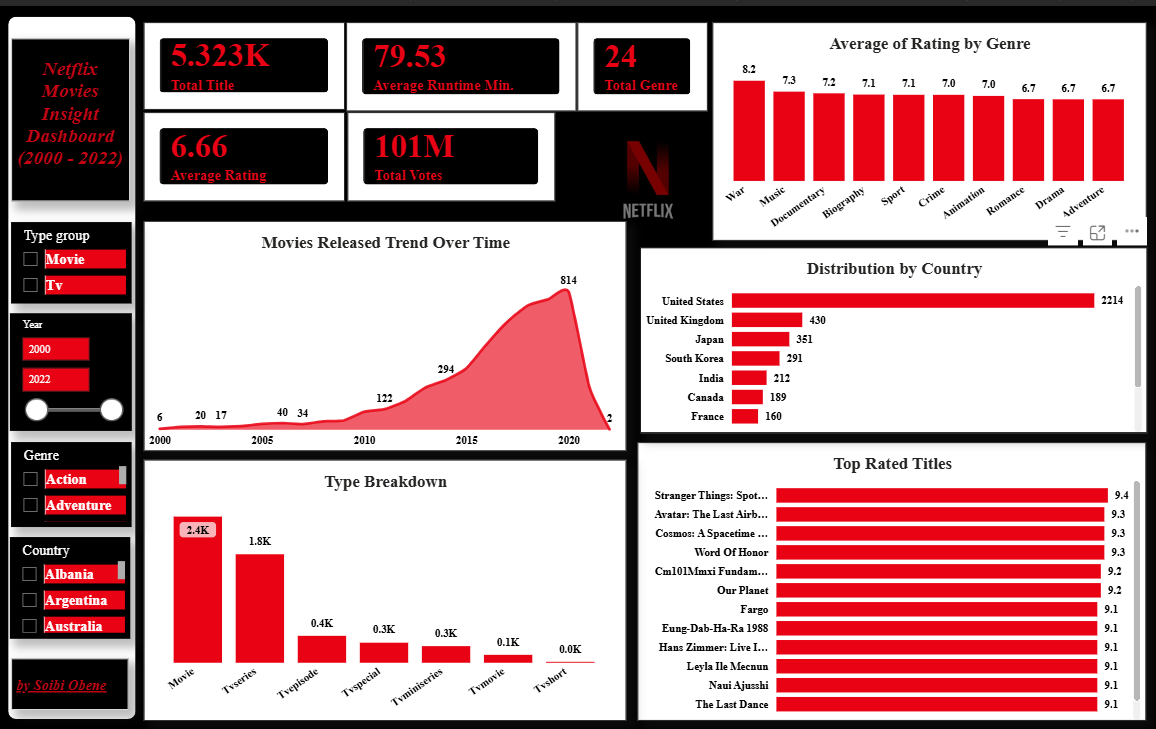

This screenshot's page, from the dashboard's own definition file:
{"tool":"powerbi","page":{"name":"Page 1","canvas":[1280,720],"ordinal":0},"visuals":[{"type":"cardVisual","fields":{"Data":["CountNonNull(netflix_data.Title)","Avg(netflix_data.Rating)","Sum(netflix_data.Number of Votes)","Count(netflix_data.Genre)"]},"box":[725.9,22,529.7,111.1],"z":0},{"type":"image","box":[370.5,197.6,577.7,435],"z":1000},{"type":"clusteredBarChart","title":"Top Rated Titles","fields":{"Category":["netflix_data.Title"],"Y":["Avg(netflix_data.Rating)"]},"box":[23.3,142.7,581.8,267.6],"z":2000},{"type":"clusteredBarChart","title":"Distribution by Country","fields":{"Category":["netflix_data.Country"],"Y":["CountNonNull(netflix_data.Title)"]},"box":[23.3,420.9,443.2,271.7],"z":3000},{"type":"lineChart","title":"Content Release Trend Over Time","fields":{"Category":["netflix_data.Year"],"Y":["CountNonNull(netflix_data.Title)"]},"box":[618.9,142.7,638.1,267.6],"z":4000},{"type":"donutChart","title":"Type Breakdown","fields":{"Y":["CountNonNull(netflix_data.Title)"],"Category":["netflix_data.Type"]},"box":[476.2,420.9,373.2,271.7],"z":5000},{"type":"clusteredBarChart","title":"Average Rating by Genre","fields":{"Category":["netflix_data.Genre"],"Y":["Avg(netflix_data.Rating)"]},"box":[856.3,421.3,399.3,271.7],"z":6000},{"type":"slicer","fields":{"Values":["netflix_data.Year"]},"box":[337.6,53.5,197.6,70],"z":7000},{"type":"slicer","fields":{"Values":["type_group.Type Group"]},"box":[539.3,53.5,181.1,70],"z":8000},{"type":"textbox","box":[23.3,20.6,303.3,102.9],"z":9000}]}

Visuals, with their boxes on the page's 1280x720 design canvas (x1, y1, x2, y2). These are canvas units, not pixel positions in the 1156x729 screenshot, which may show the page scaled, cropped or inside an application window:
cardVisual - CountNonNull(netflix_data.Title) x Avg(netflix_data.Rating): (726,22,1256,133)
image: (370,198,948,633)
"Top Rated Titles" clusteredBarChart: (23,143,605,410)
"Distribution by Country" clusteredBarChart: (23,421,466,693)
"Content Release Trend Over Time" lineChart: (619,143,1257,410)
"Type Breakdown" donutChart: (476,421,849,693)
"Average Rating by Genre" clusteredBarChart: (856,421,1256,693)
slicer - netflix_data.Year: (338,54,535,124)
slicer - type_group.Type Group: (539,54,720,124)
textbox: (23,21,327,124)
